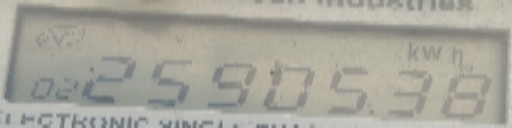0: (259, 52, 307, 117)
2: (78, 49, 137, 106)
3: (385, 58, 433, 126)
5: (146, 47, 191, 112), (328, 60, 374, 121)
8: (435, 62, 493, 123)
9: (202, 54, 256, 115)
d: (364, 106, 383, 121)
